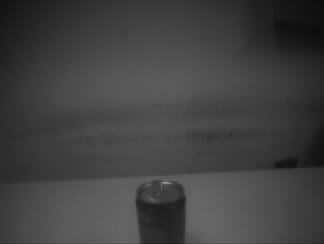Tin can: (134, 178, 187, 244)
